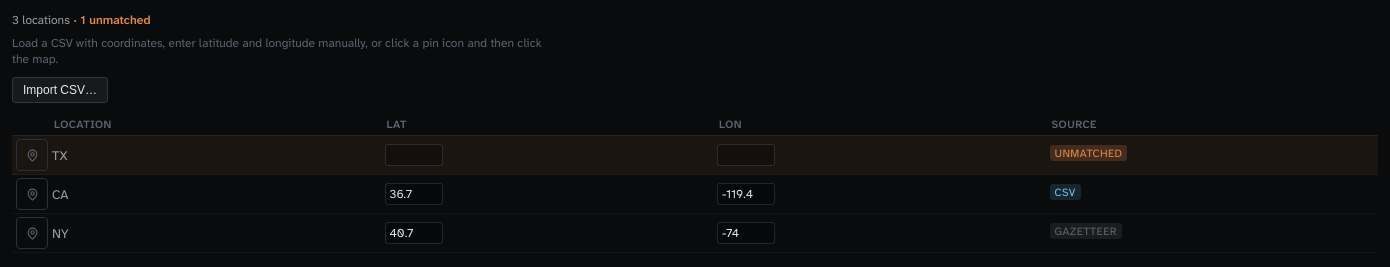
Test case: LocationsPanel › restores the previous coordinate when an invalid edit is cancelled with Escape
Replace the text in the number field named "Latitude for NY" with "999" at (414, 233), box [384, 222, 442, 244]
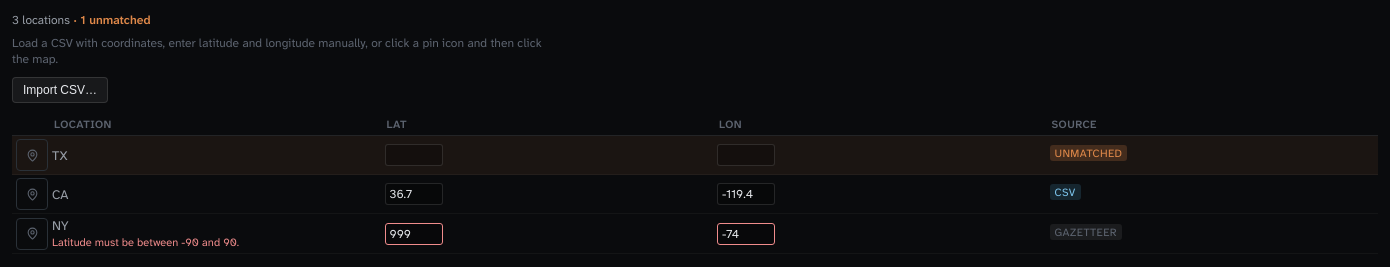
Press Escape in the number field named "Latitude for NY", box [384, 223, 442, 245]
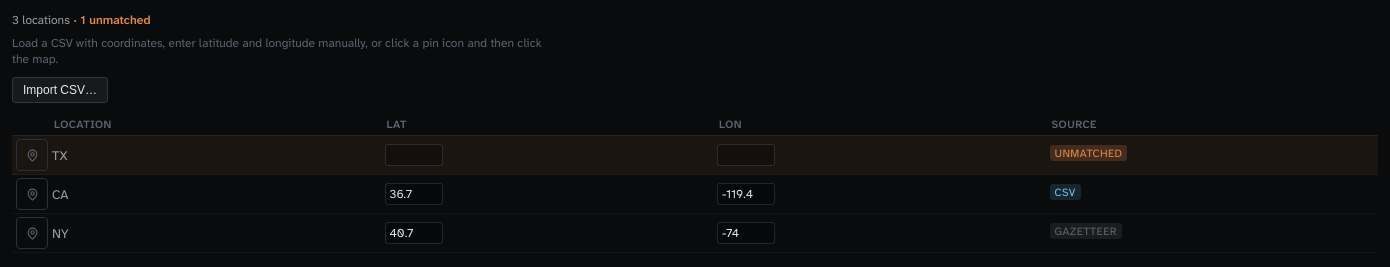
Result: the number field named "Latitude for NY" holds "40.7" at [384, 222, 442, 244]
